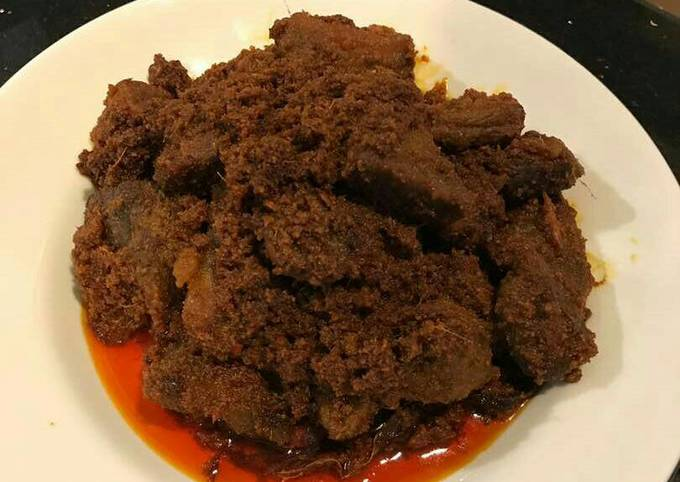rendang: (58, 7, 617, 475)
